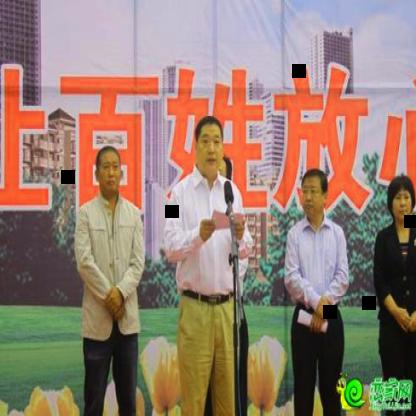head: (190, 113, 226, 174), (298, 161, 332, 221), (92, 147, 126, 198), (386, 171, 415, 227)
